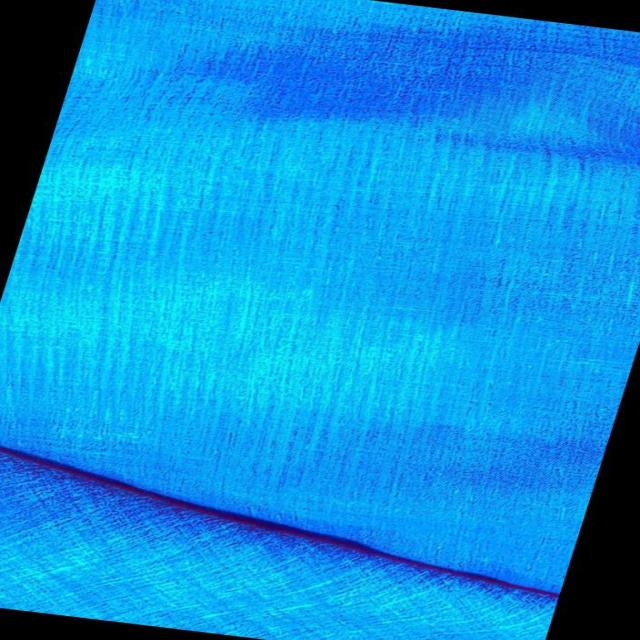baekra: (0, 349, 613, 640), (65, 0, 640, 207), (9, 173, 640, 344)
